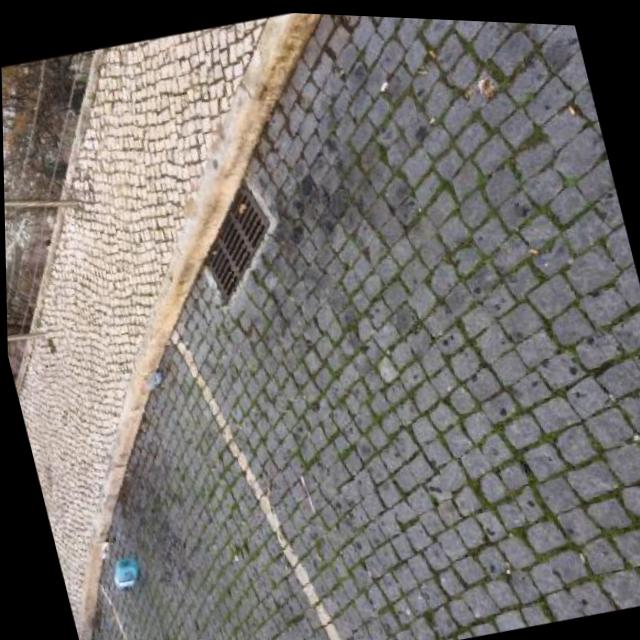plastic: (108, 552, 143, 593), (298, 471, 316, 512), (143, 368, 165, 388)
